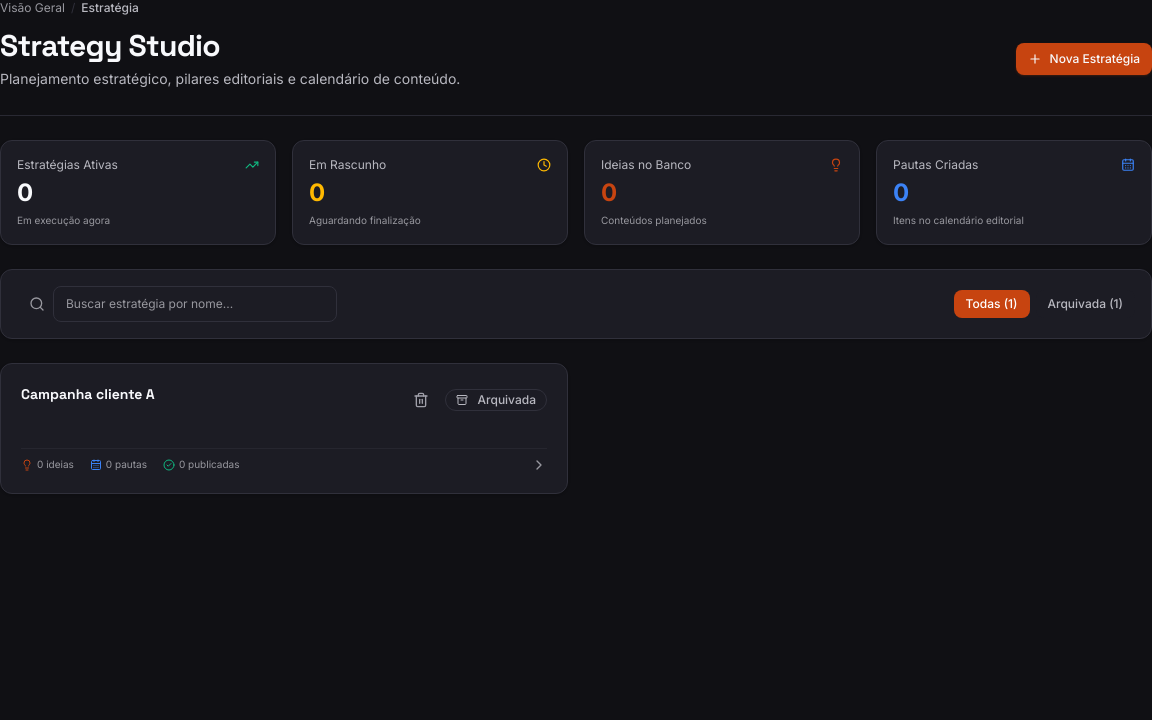
requires per-strategy confirmation and reports protected dependencies without dismissing the dialog
What coordinates should you click on to do the following:
click the button named "Apagar estratégia Campanha cliente A"
I would click on:
 (420, 400)
Its box is [404,384,436,416].
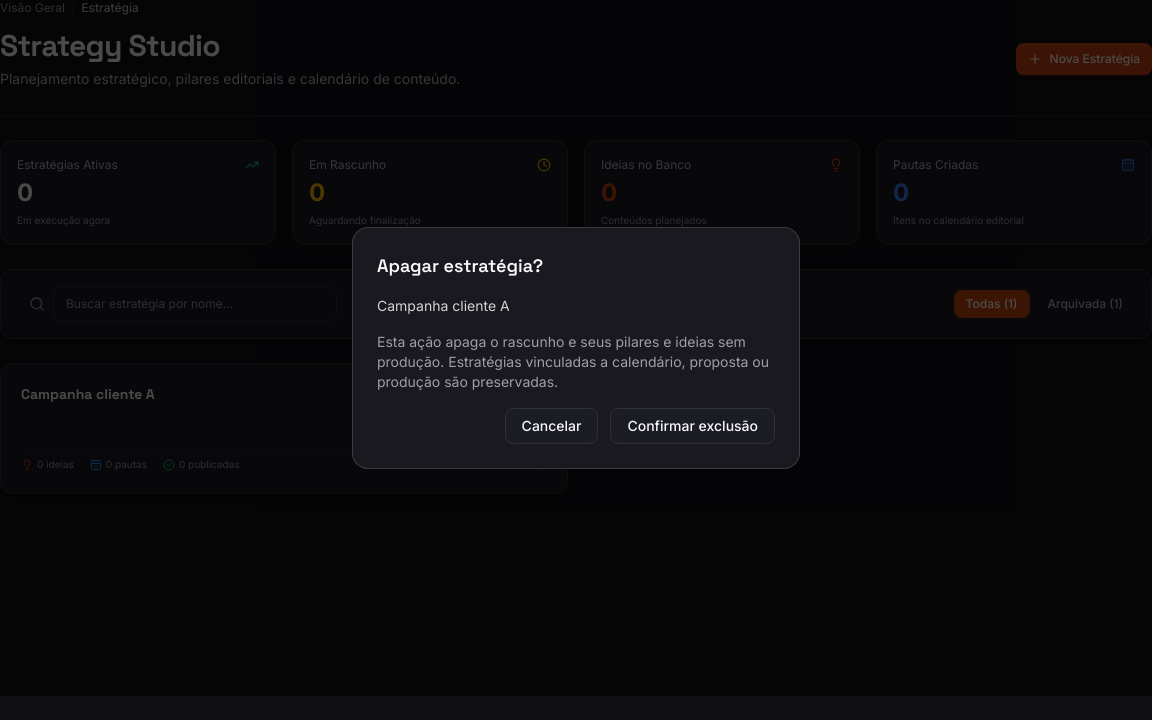
Now the dialog shows "Campanha cliente A", box [377,297,510,314]
What coordinates should you click on to do the following:
click the button "Confirmar exclusão"
I would click on:
 (693, 426)
Its box is [610,408,775,444].
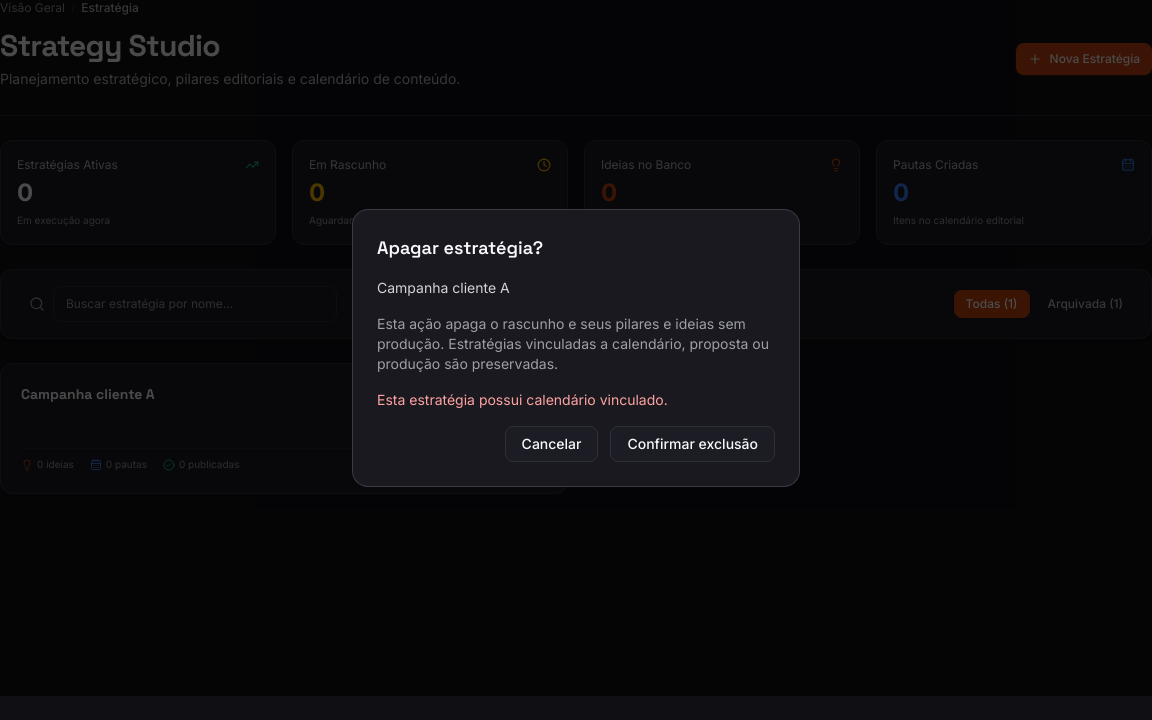
Now the message shows "calendário vinculado", box [377,391,668,408]
What coordinates should you click on to do the following:
click the button "Cancelar"
I would click on:
 (552, 444)
Its box is [505,426,598,462].
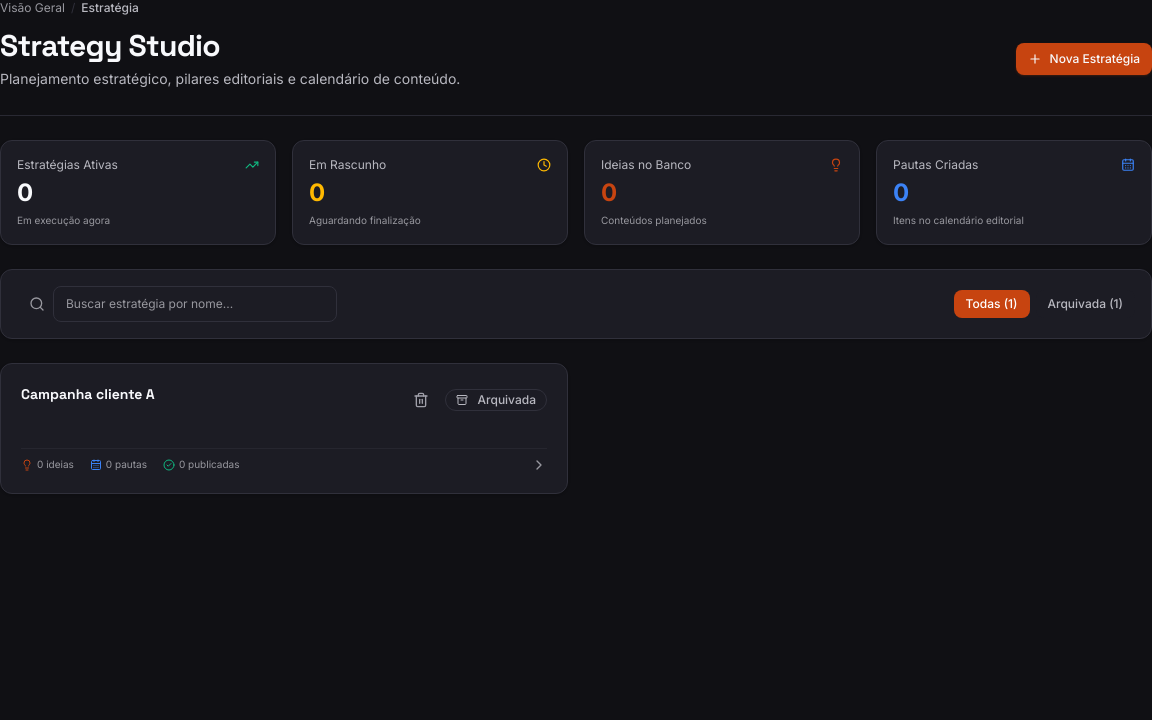
Now the dialog is gone
